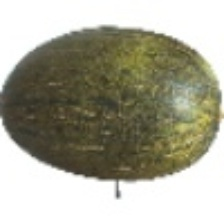honeydew: (46, 35, 206, 216)
